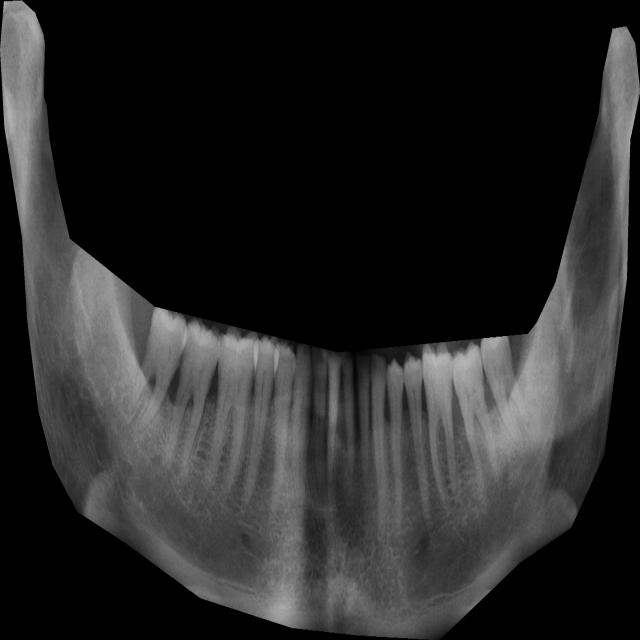mandibula: (0, 0, 640, 640)
